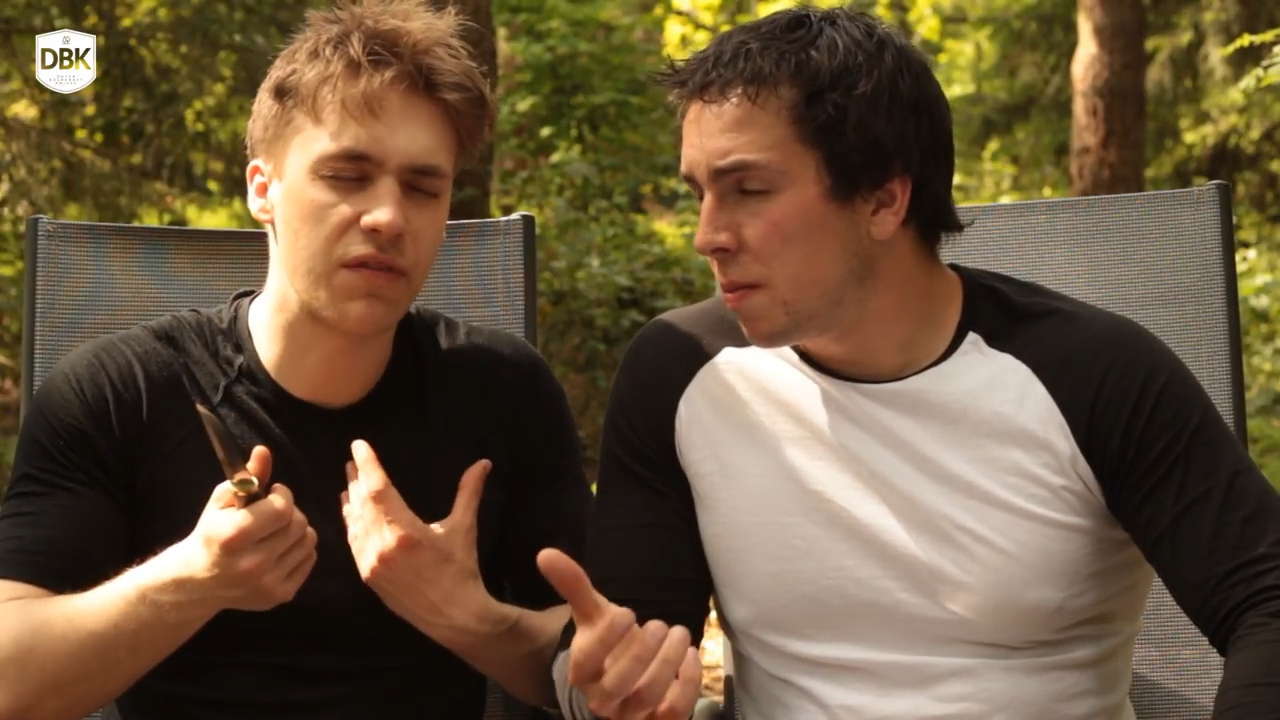knife: (165, 382, 328, 581)
